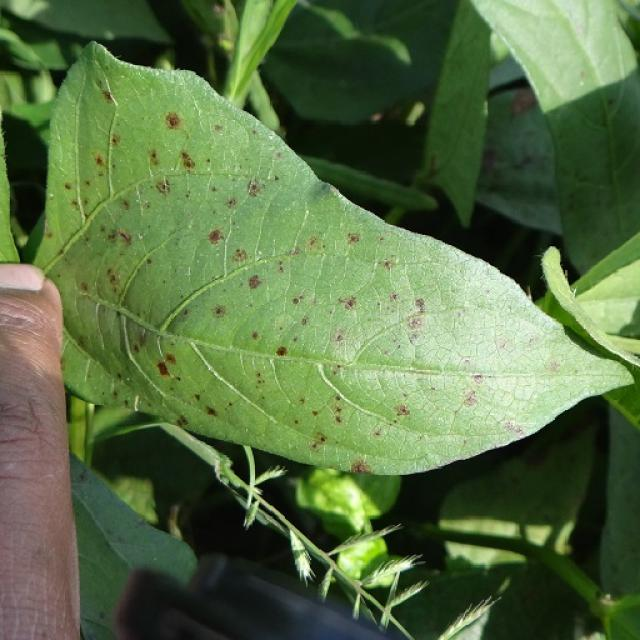Anthracnose: (238, 264, 268, 297), (407, 293, 436, 323), (157, 109, 187, 135), (341, 287, 369, 313), (202, 228, 233, 250)
Blackgram: (35, 42, 630, 474)
